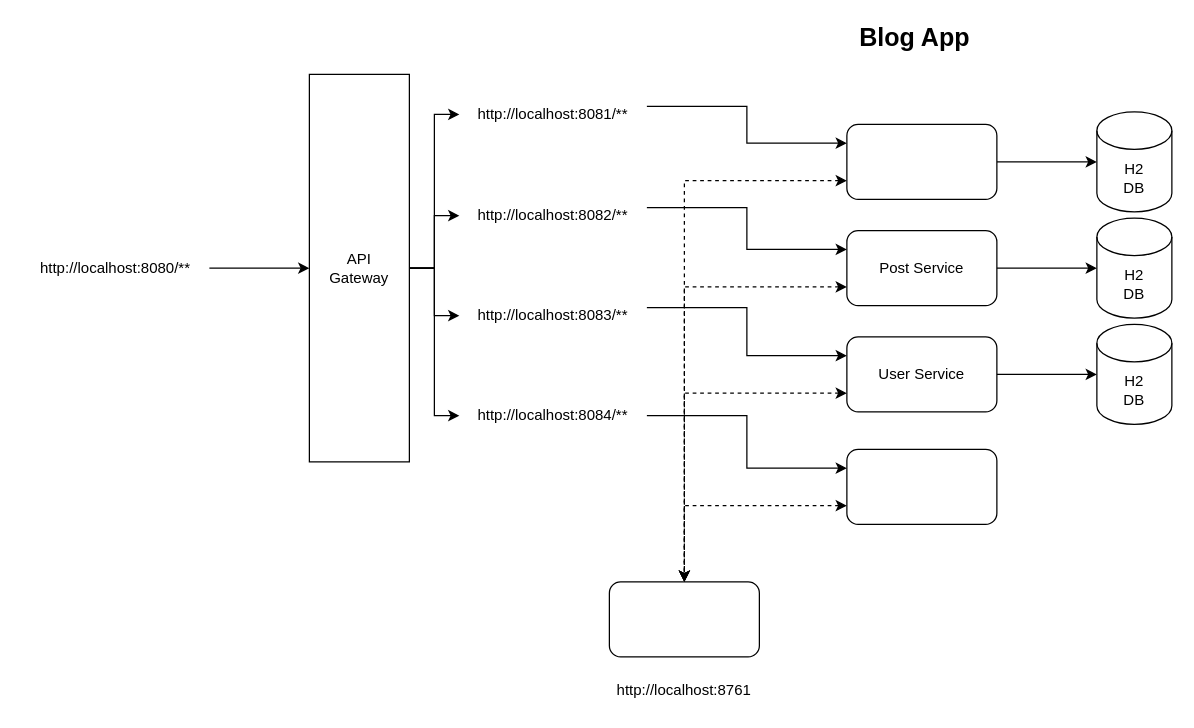
Image size: 1194x728. Some labels were removed from this diagram. Here are the shapes that lost their labels. From the top down, the centre of each, then its label:
the point at 921,161: Comment Service
the point at 921,486: Feed Service
the point at 683,619: Service Registry
